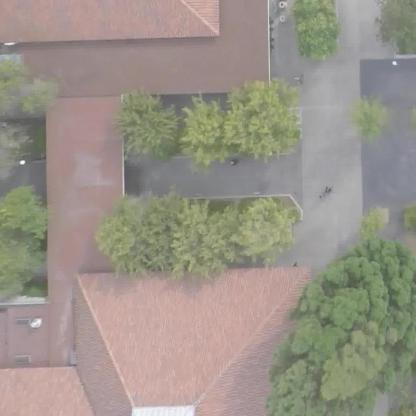Pedestrian: (228, 153, 243, 168), (322, 182, 338, 196), (291, 258, 299, 269)
